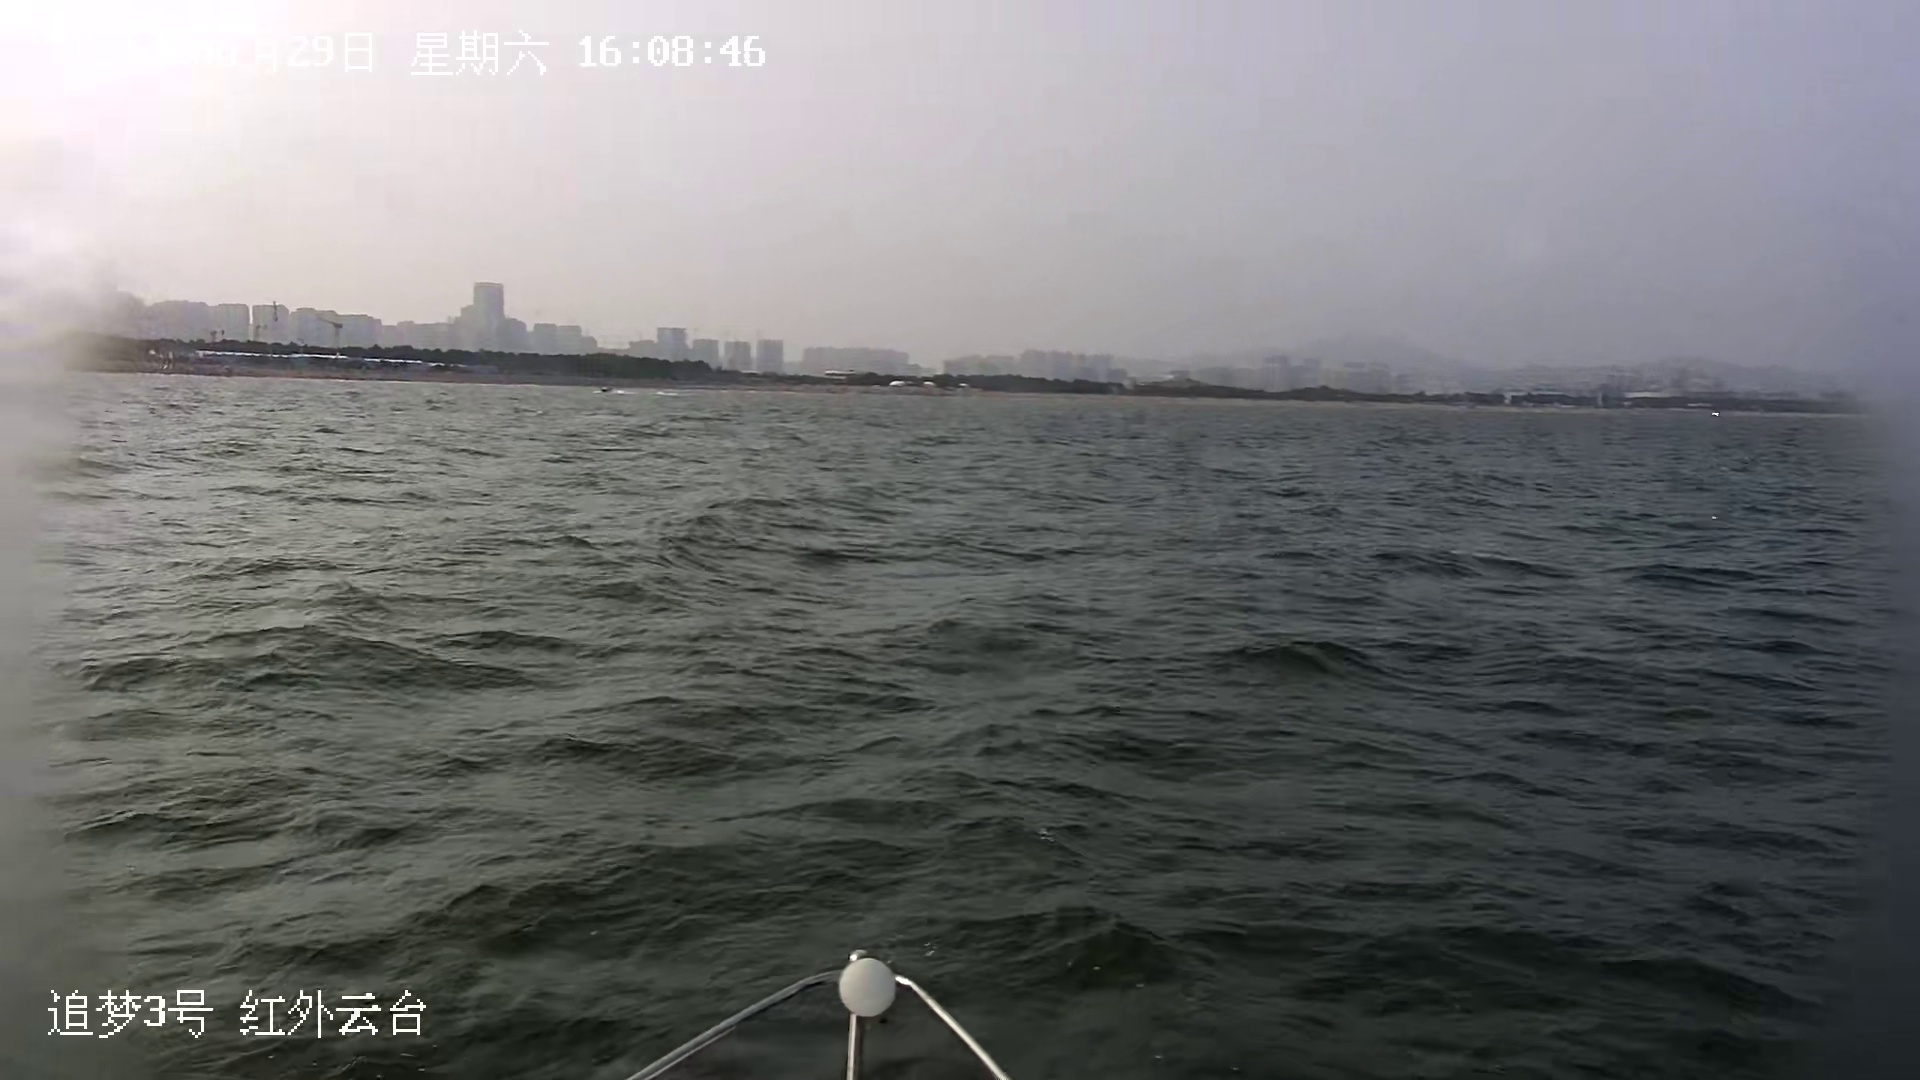coast: (17, 273, 1879, 422)
